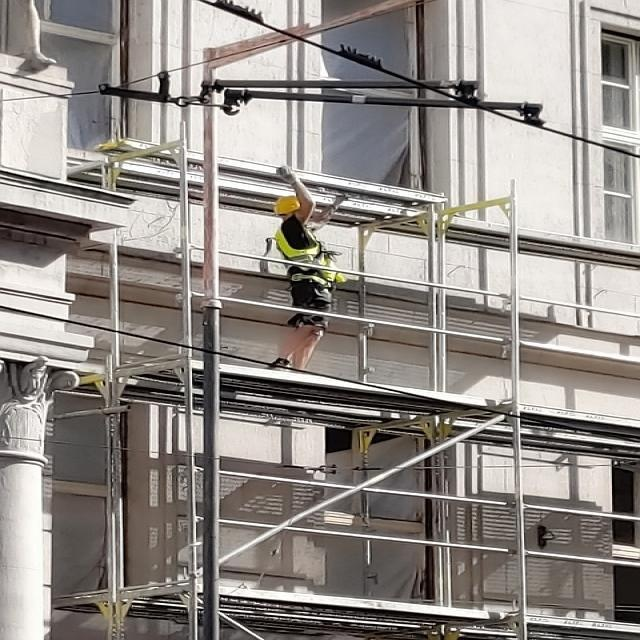Arnes_seguridad: (272, 215, 333, 288)
